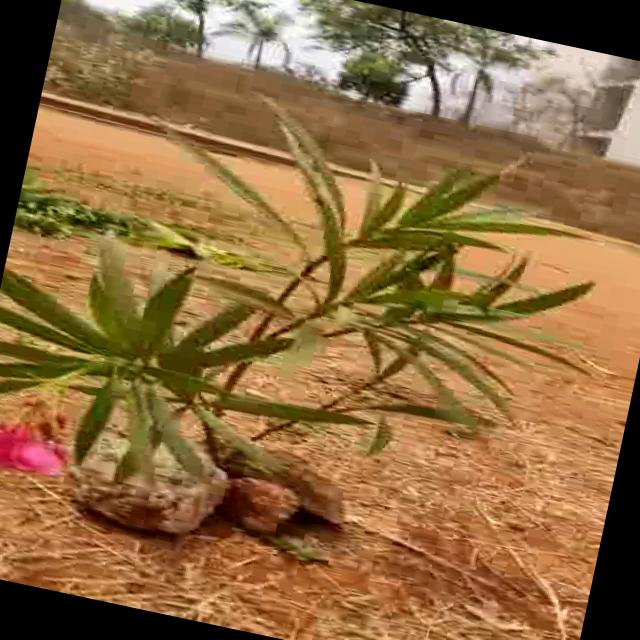Oleander: (0, 64, 586, 529)
